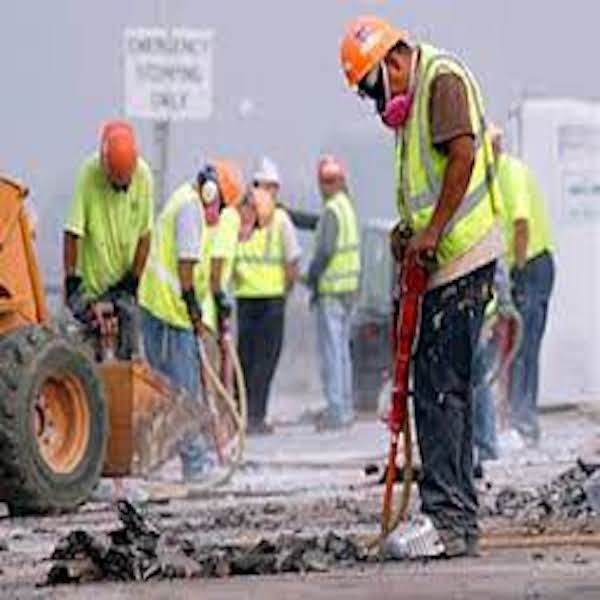helmet: (342, 13, 402, 81), (103, 122, 141, 187), (211, 157, 242, 202), (311, 152, 351, 181)
vest: (396, 60, 504, 270), (236, 207, 284, 298), (316, 192, 360, 291)
